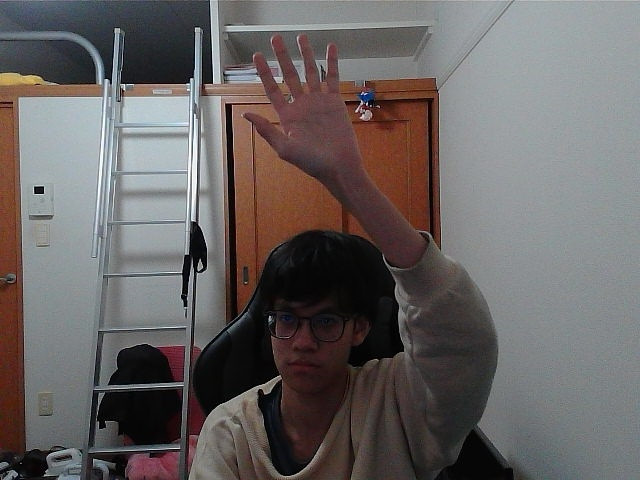open_palm: (251, 39, 340, 163)
